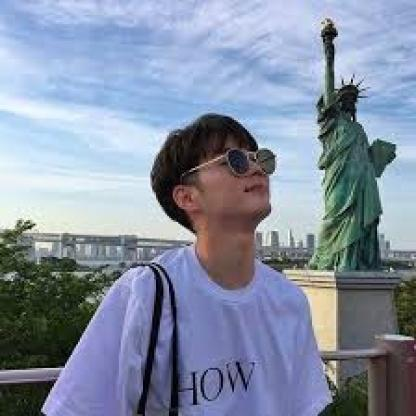person: (145, 109, 280, 237)
